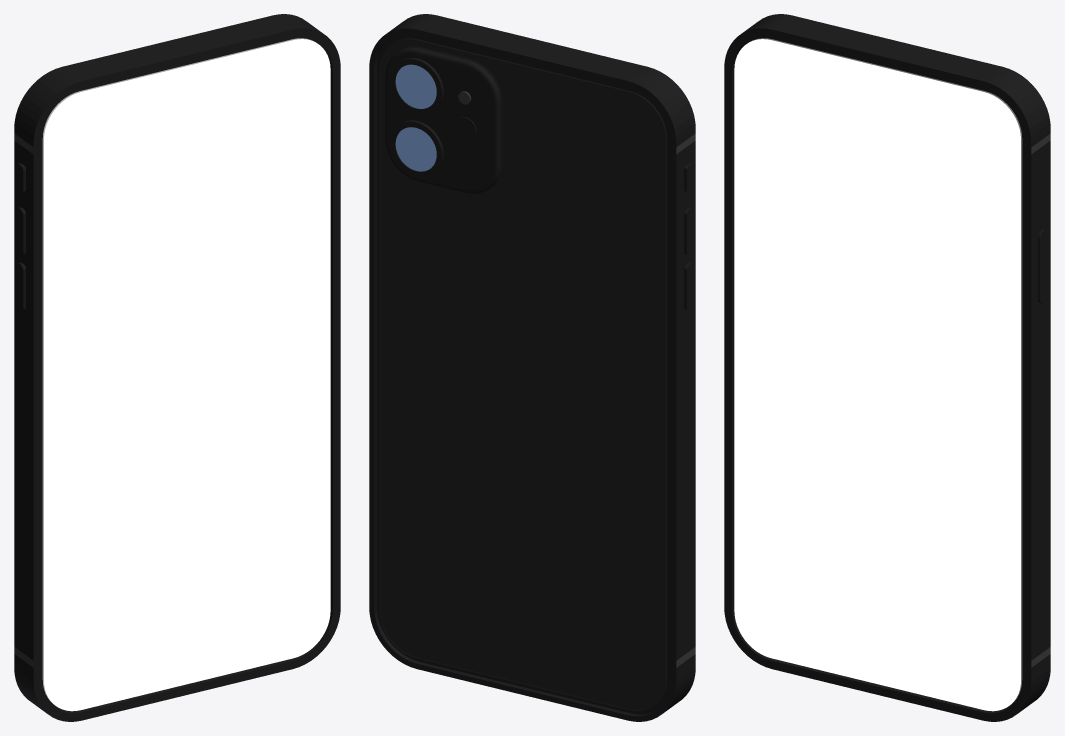
Rendered from iphone-3.2.glb.
The picture shows the model from 3 angles, left to right: view 1: azimuth 30°, elevation 25°; view 2: azimuth 150°, elevation 25°; view 3: azimuth 330°, elevation 25°; orthographic projection.
Parts seen in each view (by area): view 1: screen, phone; view 2: phone, back-glass-body, camera-bump-body, camera-lens.001, camera-lens; view 3: screen, phone, button-body.
Boxes of the visible parts, box(x1,y1,x2,y2) form: screen: box(42, 38, 330, 711); phone: box(14, 14, 340, 721); phone: box(369, 14, 695, 721); back-glass-body: box(379, 38, 667, 711); camera-bump-body: box(385, 46, 502, 194); camera-lens.001: box(390, 120, 443, 177); camera-lens: box(390, 57, 443, 114); screen: box(734, 38, 1022, 711); phone: box(724, 14, 1050, 721); button-body: box(1038, 229, 1046, 303).
Size of the model in its own units: 1.4 by 2.74 by 0.1858.
6 materials, 3 textured.
